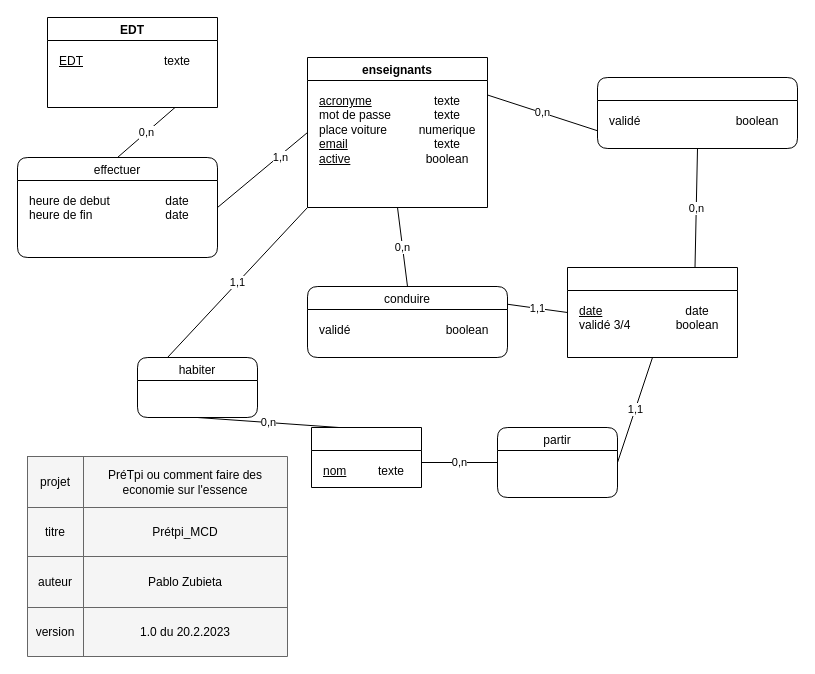
The diagram is 815 pixels wide and 674 high, and some of its shapes have lost their labels. Here are the shapes that lost their labels. From the top down, the box of each, then its label:
(596, 76, 798, 148): être conduit
(566, 266, 738, 358): covoiturage
(310, 426, 422, 488): lieux
